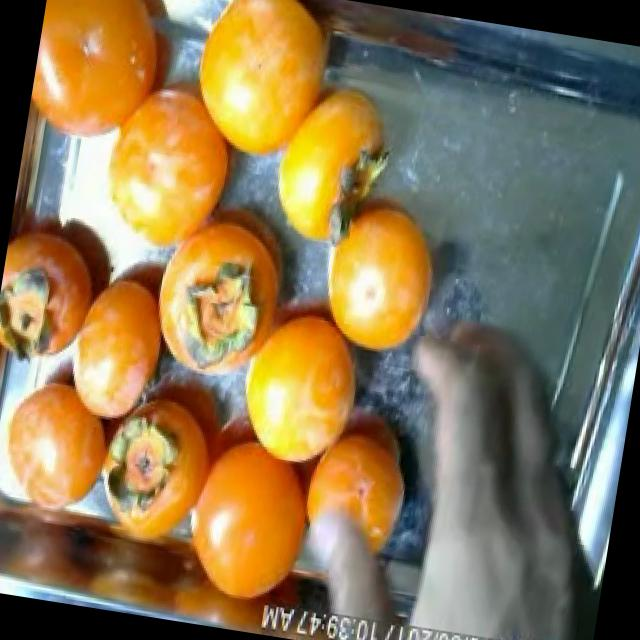Fruit: (168, 0, 362, 191), (313, 165, 469, 384), (0, 341, 141, 541)
